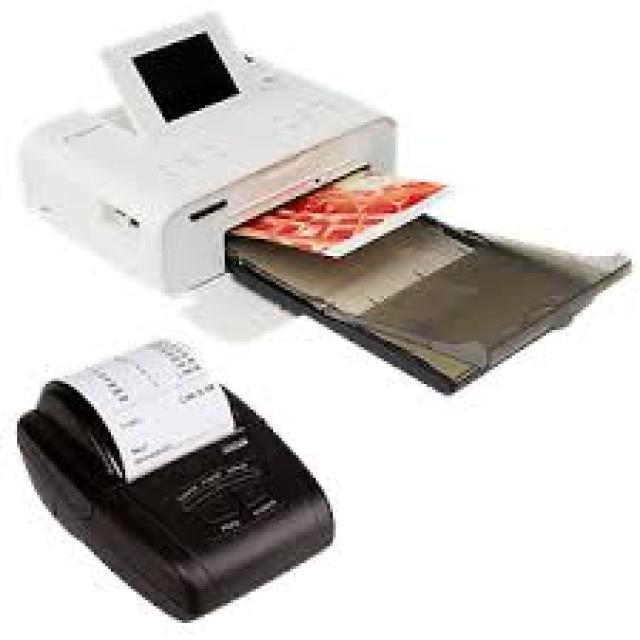printer: (17, 6, 632, 395)
